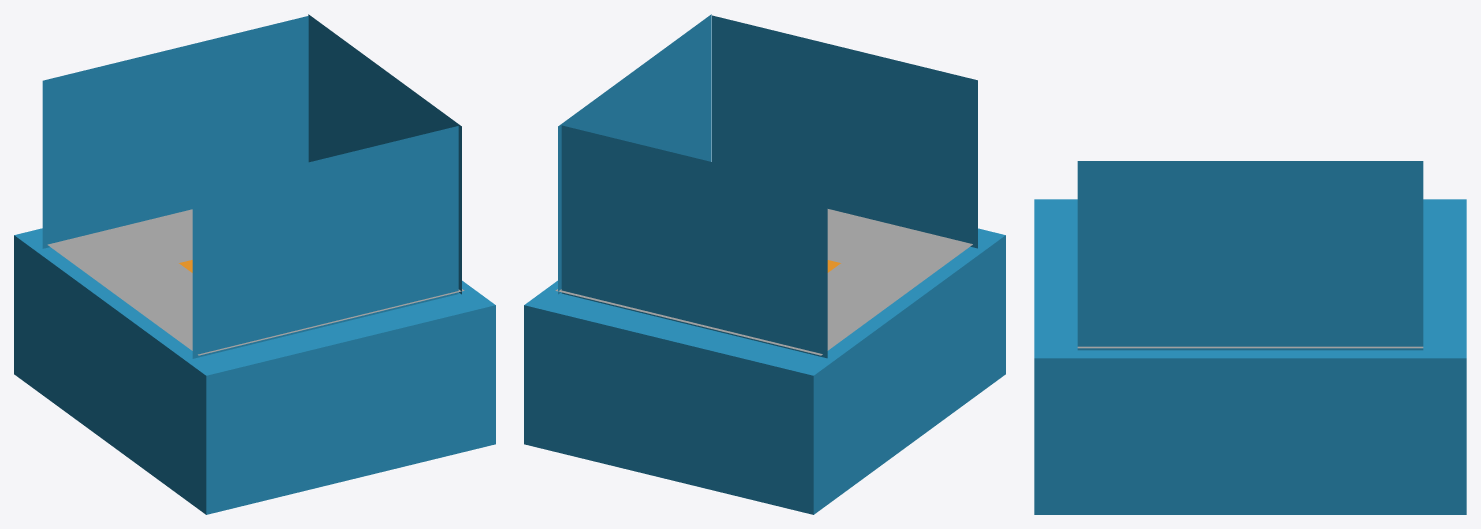
The model's file is rock 1.fbx.
The picture shows the model from 3 angles, left to right: view 1: azimuth 30°, elevation 25°; view 2: azimuth 150°, elevation 25°; view 3: azimuth 270°, elevation 25°; orthographic projection. The views are drawn at different scales.
Visible parts, largest first — view 1: Cube_1, Plane_2, Plane_1, Plane, Plane_2_2; view 2: Cube_1, Plane_1, Plane_2, Plane, Plane_2_2; view 3: Cube_1, Plane, Plane_2_2.
Part boxes in pixels (box(x1,y1,x2,y2)): Cube_1: box(14, 228, 495, 514); Plane_2: box(192, 126, 458, 358); Plane_1: box(42, 16, 308, 248); Plane: box(308, 14, 461, 294); Plane_2_2: box(47, 209, 464, 355); Cube_1: box(524, 228, 1005, 514); Plane_1: box(561, 125, 827, 358); Plane_2: box(712, 15, 977, 248); Plane: box(558, 14, 711, 294); Plane_2_2: box(555, 209, 972, 355); Cube_1: box(1034, 199, 1466, 514); Plane: box(1077, 161, 1423, 350); Plane_2_2: box(1077, 346, 1423, 348).
Size of the model in its own units: 435 by 442 by 500.
